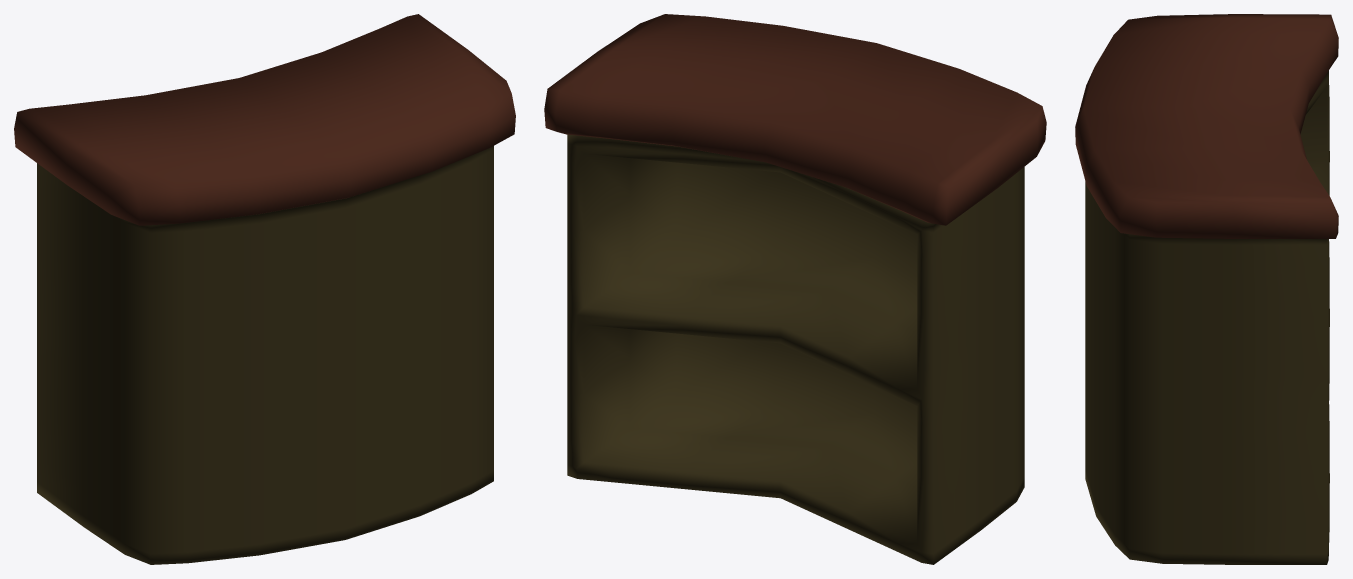
The model's file is Mini Bar.fbx.
3 views of the same model, side by side, from view 1: azimuth 30°, elevation 25°; view 2: azimuth 150°, elevation 25°; view 3: azimuth 270°, elevation 25° (orthographic). The views are drawn at different scales.
Parts seen in each view (by area): view 1: Mini Bar; view 2: Mini Bar; view 3: Mini Bar.
Part boxes in pixels (<box>): Mini Bar: <box>14,14,515,564</box>; Mini Bar: <box>544,14,1046,564</box>; Mini Bar: <box>1075,14,1338,564</box>.
Size of the model in its own units: 165 by 151 by 96.84.
